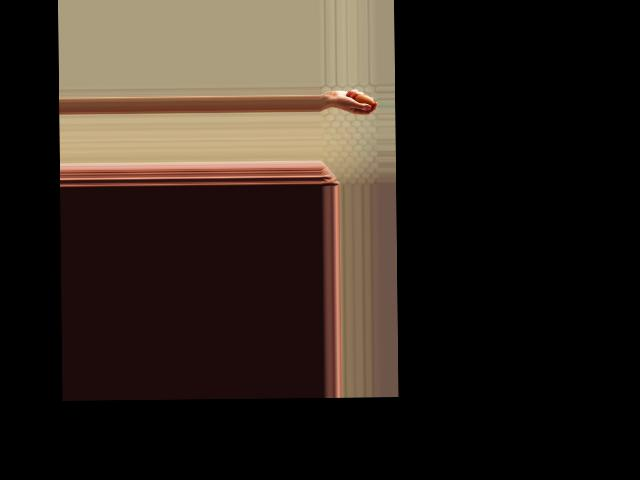egg: (354, 93, 373, 108)
